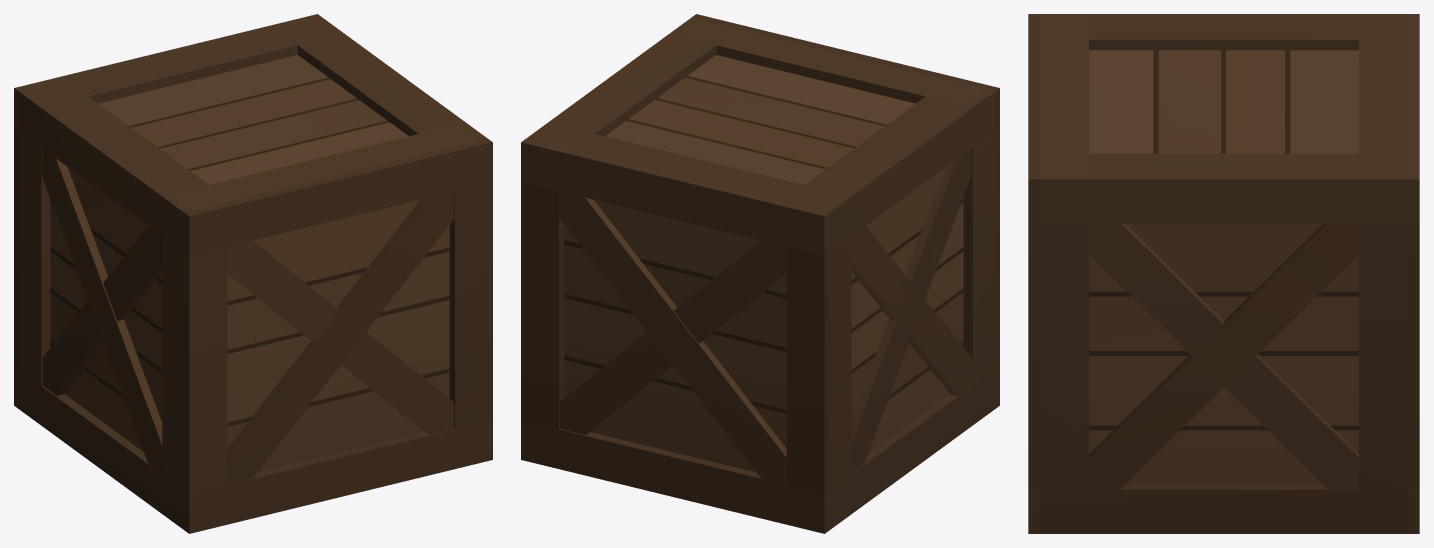
File: crate.wood.dark.glb
3 views of the same model, side by side, from view 1: azimuth 30°, elevation 25°; view 2: azimuth 150°, elevation 25°; view 3: azimuth 270°, elevation 25° (orthographic). The views are drawn at different scales.
Visible parts, largest first — view 1: crate_wood_dark; view 2: crate_wood_dark; view 3: crate_wood_dark.
Boxes of the visible parts, x1,y1,x2,y2 form: crate_wood_dark: (14, 14, 492, 533); crate_wood_dark: (521, 14, 999, 533); crate_wood_dark: (1028, 14, 1419, 533).
Size of what is drawn, in the model's own units: 0.6 by 0.6 by 0.6.
